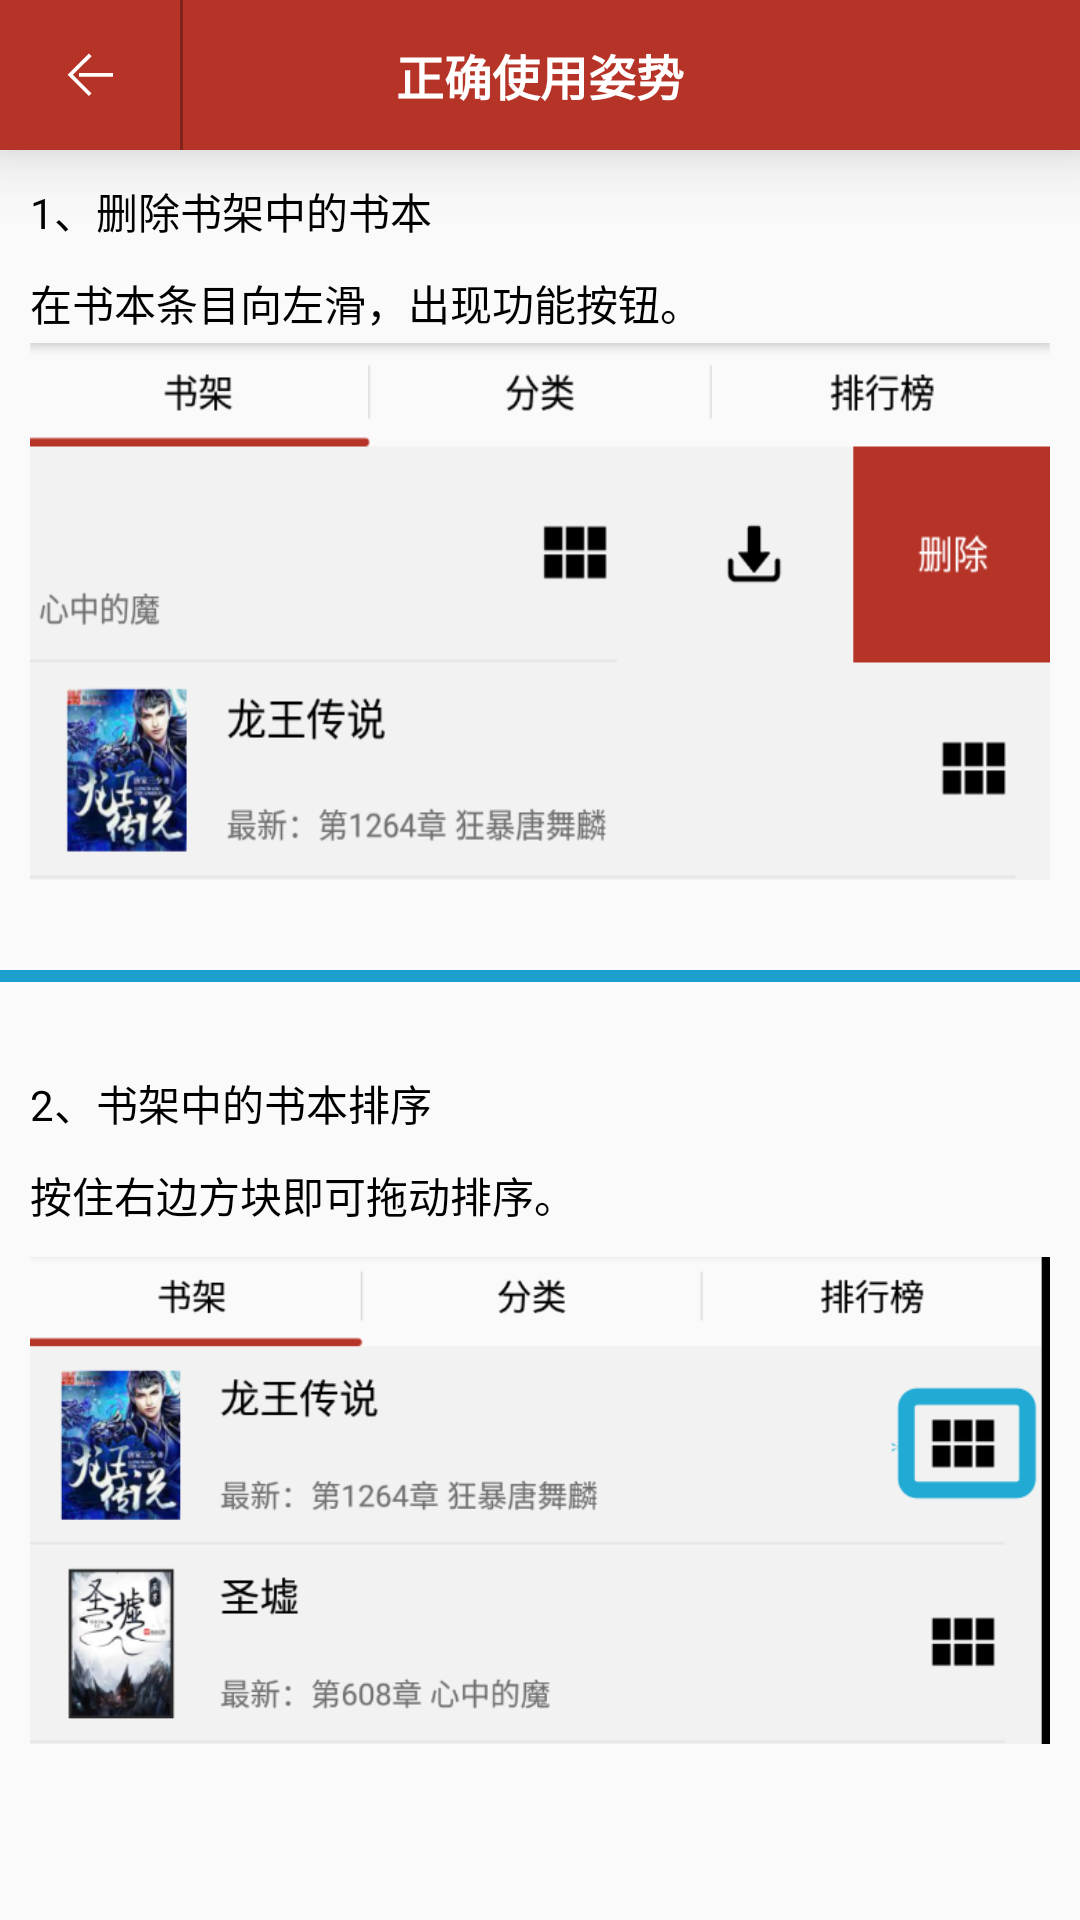

Point at icon controls on the screen. Image size 1080px x 1920px, points as (x,y).
return: (90,75)
